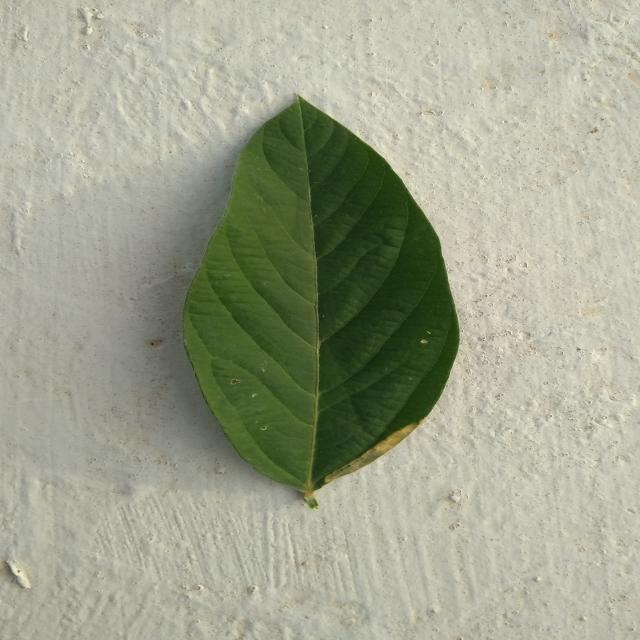pea: (184, 96, 460, 508)
